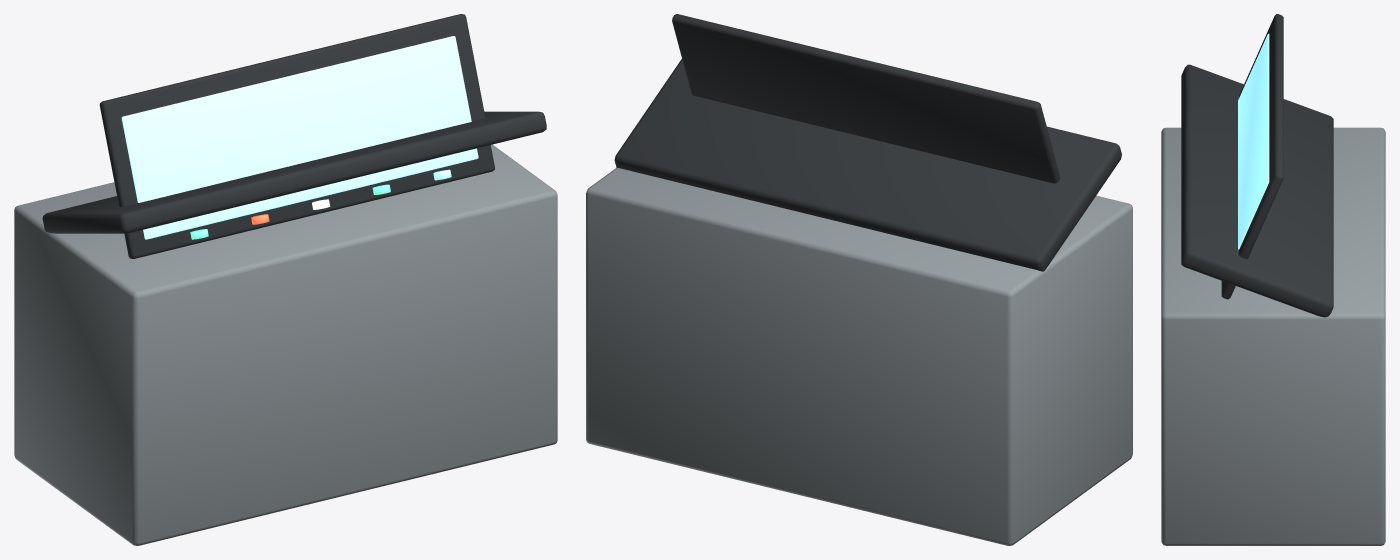
File: console.glb
3 views of the same model, side by side, from view 1: azimuth 30°, elevation 25°; view 2: azimuth 150°, elevation 25°; view 3: azimuth 270°, elevation 25° (orthographic). The views are drawn at different scales.
Visible parts, largest first — view 1: console; view 2: console; view 3: console.
Part boxes in pixels (left/top/right/bottom): console: left=14, top=14, right=557, bottom=545; console: left=586, top=14, right=1132, bottom=545; console: left=1161, top=14, right=1385, bottom=545.
Bounding box in the file's own units: 1.4 × 1.24 × 0.7.
